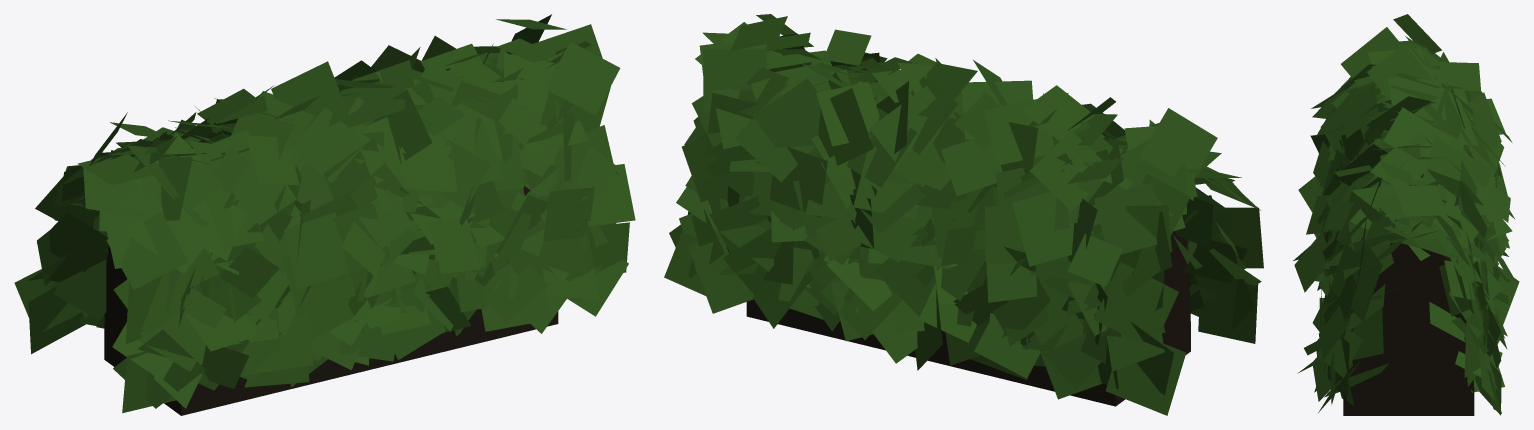
The model's file is hedge_run_b.glb.
3 renders of one model, left to right at view 1: azimuth 30°, elevation 25°; view 2: azimuth 150°, elevation 25°; view 3: azimuth 270°, elevation 25°, orthographic. The views are drawn at different scales.
Parts seen in each view (by area): view 1: hedge_run_b_lod0; view 2: hedge_run_b_lod0; view 3: hedge_run_b_lod0.
Part boxes in pixels (bbox=[...]): hedge_run_b_lod0: bbox=[14, 14, 635, 415]; hedge_run_b_lod0: bbox=[664, 14, 1263, 415]; hedge_run_b_lod0: bbox=[1293, 14, 1519, 415].
Size of what is drawn, in the model's own units: 4.78 by 2.43 by 2.08.
